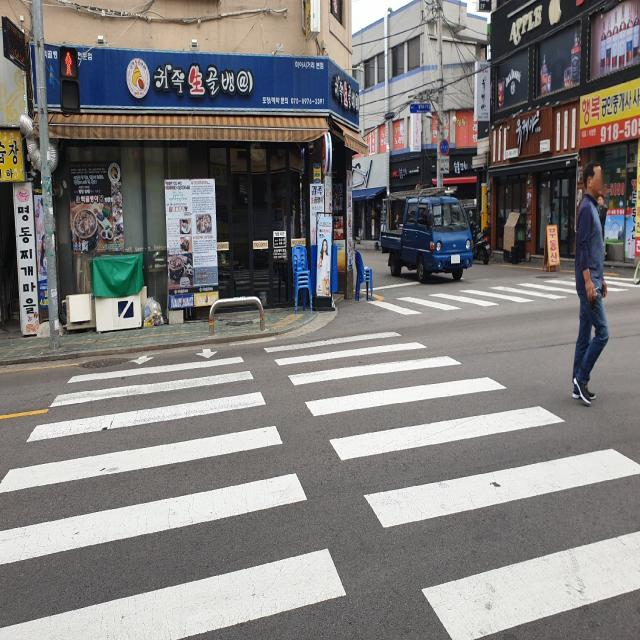횡단보도: (0, 329, 640, 639), (361, 267, 640, 318)
